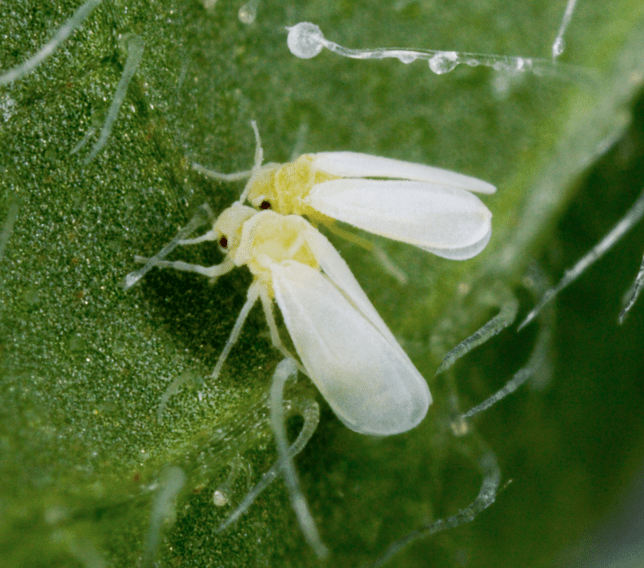Tobacco Whitefly: (144, 203, 430, 449), (225, 141, 503, 264)
